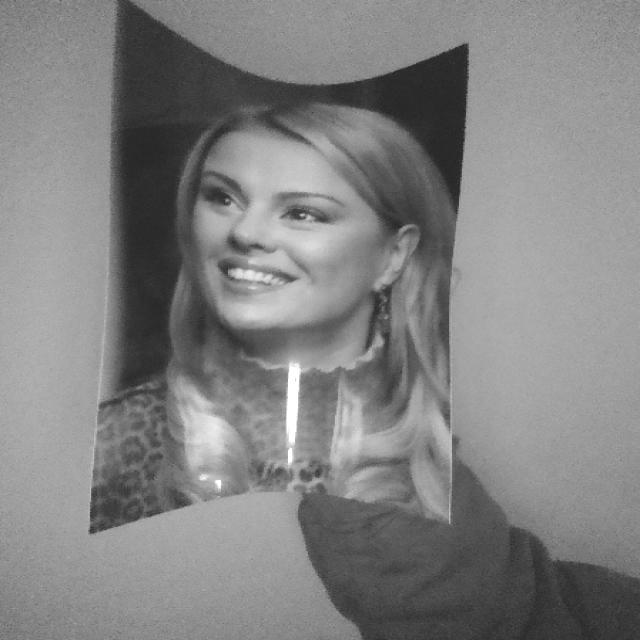fake: (96, 1, 471, 539)
